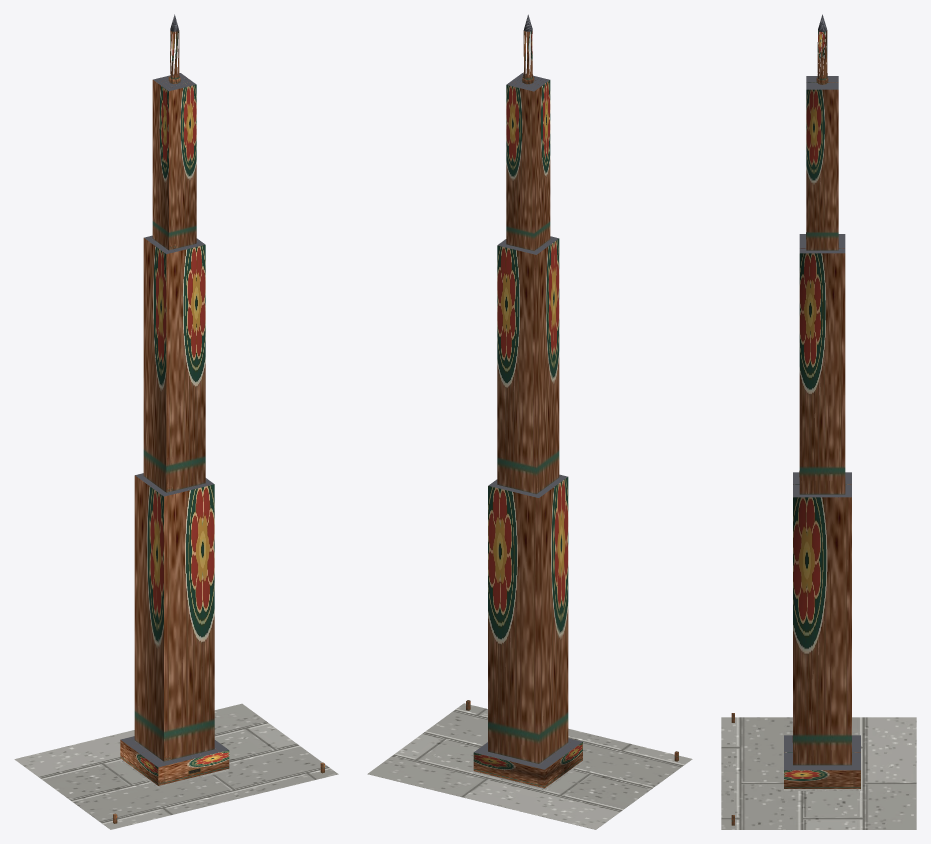
The picture shows the model from 3 angles, left to right: view 1: azimuth 30°, elevation 25°; view 2: azimuth 150°, elevation 25°; view 3: azimuth 270°, elevation 25°; orthographic projection.
Parts seen in each view (by area): view 1: 11710_01_05551_000_02_L2__body, 11710_01_05551_000_01_L2__base, 11710_01_05551_000_03_L2__roof; view 2: 11710_01_05551_000_02_L2__body, 11710_01_05551_000_01_L2__base, 11710_01_05551_000_03_L2__roof; view 3: 11710_01_05551_000_02_L2__body, 11710_01_05551_000_01_L2__base, 11710_01_05551_000_03_L2__roof.
Part boxes in pixels (bbox=[...]): 11710_01_05551_000_02_L2__body: bbox=[120, 30, 229, 785]; 11710_01_05551_000_01_L2__base: bbox=[14, 703, 338, 829]; 11710_01_05551_000_03_L2__roof: bbox=[120, 14, 228, 767]; 11710_01_05551_000_02_L2__body: bbox=[473, 30, 582, 788]; 11710_01_05551_000_01_L2__base: bbox=[367, 703, 692, 829]; 11710_01_05551_000_03_L2__roof: bbox=[474, 14, 582, 769]; 11710_01_05551_000_02_L2__body: bbox=[784, 30, 860, 788]; 11710_01_05551_000_01_L2__base: bbox=[721, 717, 916, 829]; 11710_01_05551_000_03_L2__roof: bbox=[784, 14, 860, 770].
Size of the model in its own units: 180 by 567 by 132.
Materials: 5 (5 with a texture image).
